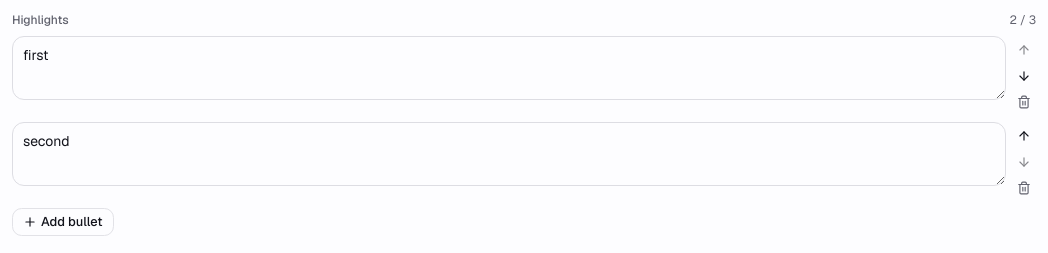
Test: BulletListField › moves a bullet up, and disables the control at the top
Click the button named "Move Highlights 2 up" at (1024, 136), box [1012, 124, 1036, 148]
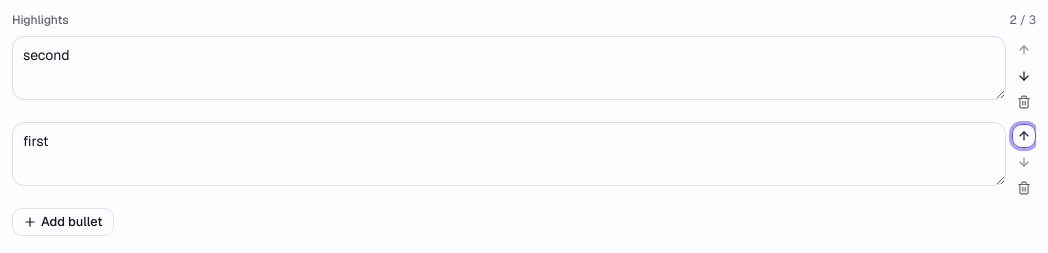
Check: the button named "Move Highlights 1 up" is disabled, box [1012, 38, 1036, 62]
Check: the text box named "Highlights 1" holds "second", box [12, 36, 1006, 100]
Check: the text box named "Highlights 2" holds "first", box [12, 122, 1006, 186]
